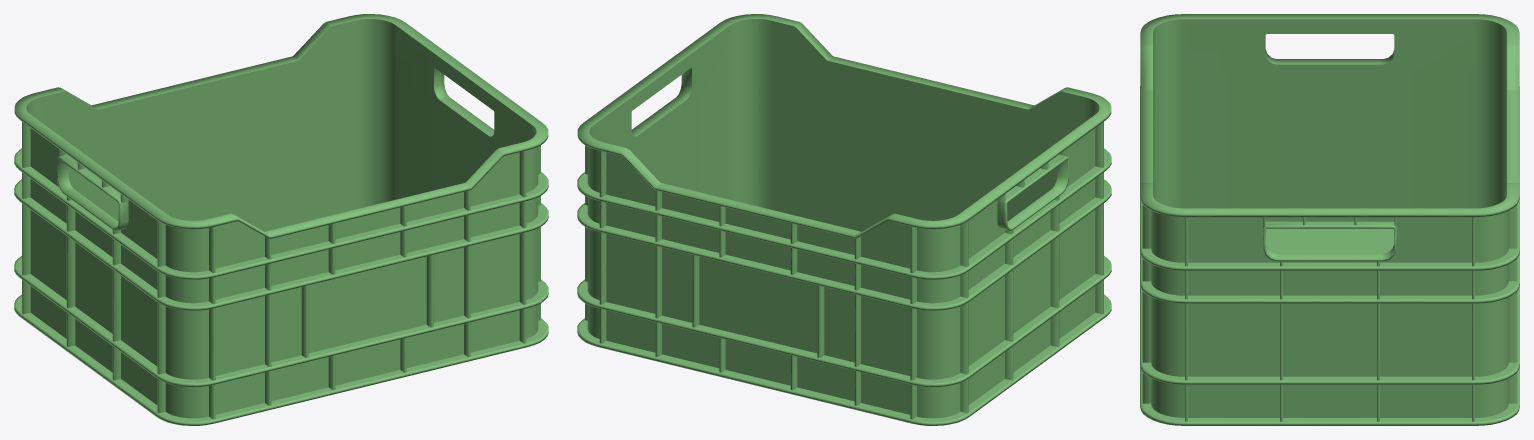
File: crate.glb
3 views of the same model, side by side, from view 1: azimuth 30°, elevation 25°; view 2: azimuth 150°, elevation 25°; view 3: azimuth 270°, elevation 25° (orthographic). The views are drawn at different scales.
Parts seen in each view (by area): view 1: plastic_crate_02; view 2: plastic_crate_02; view 3: plastic_crate_02.
Part boxes in pixels (x1,y1,x2,y2): plastic_crate_02: (14,14,548,425); plastic_crate_02: (577,14,1111,425); plastic_crate_02: (1140,14,1519,425).
Bounding box in the file's own units: 0.5055 × 0.2541 × 0.4055.
